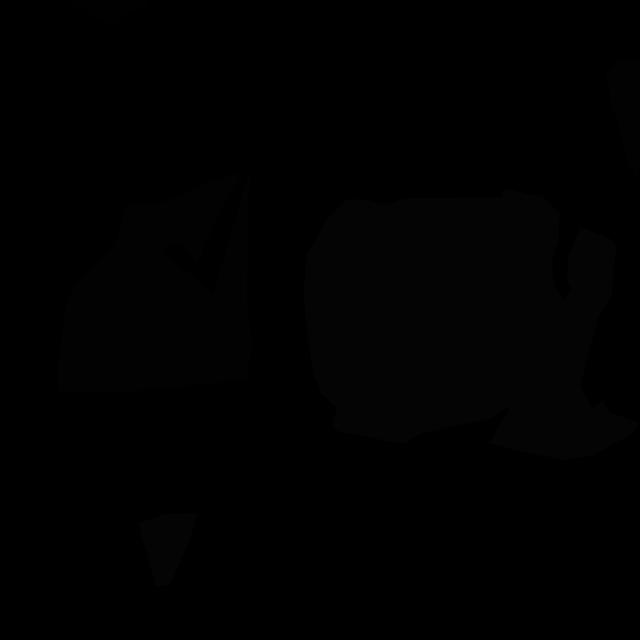cardboard: (57, 171, 252, 393), (606, 57, 640, 178)
rigid_plastic: (65, 0, 149, 28)
soft_plastic: (304, 189, 640, 460), (138, 513, 198, 586)
